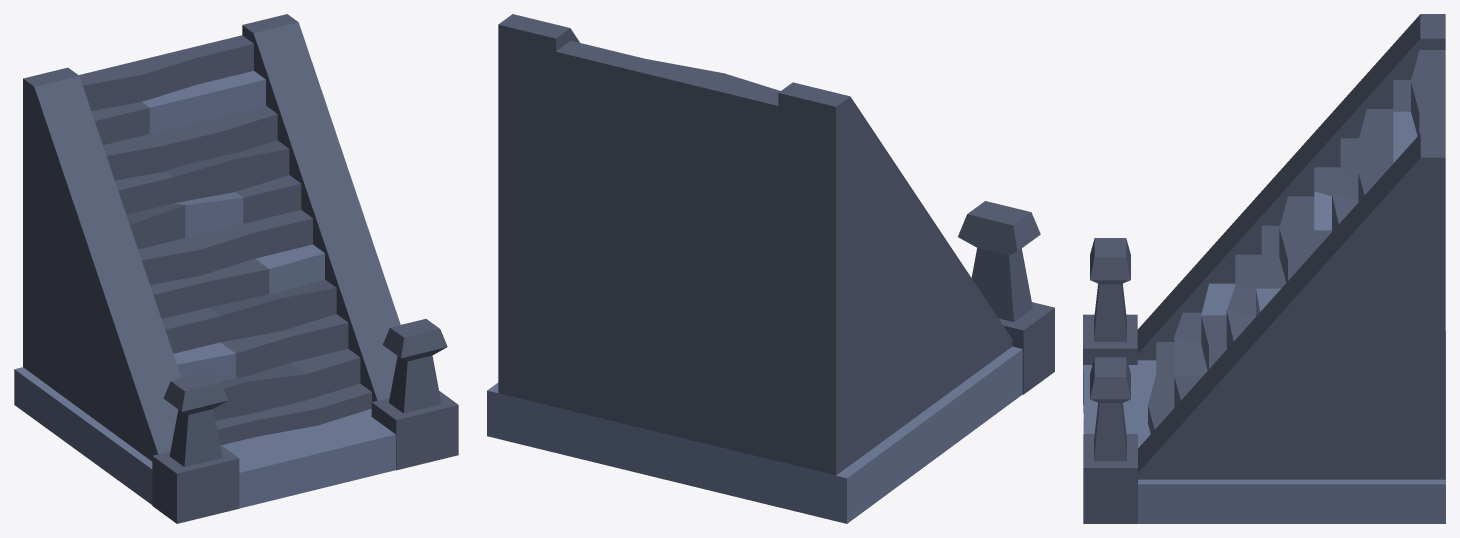
Rendered from stairs.fbx.
3 renders of one model, left to right at view 1: azimuth 30°, elevation 25°; view 2: azimuth 150°, elevation 25°; view 3: azimuth 270°, elevation 25°, orthographic. The views are drawn at different scales.
Visible parts, largest first — view 1: stairs.006; view 2: stairs.006; view 3: stairs.006.
Boxes of the visible parts, x1,y1,x2,y2 form: stairs.006: (14, 14, 458, 523); stairs.006: (487, 14, 1054, 523); stairs.006: (1083, 14, 1445, 523).
Size of the model in its own units: 100 by 100 by 110.
